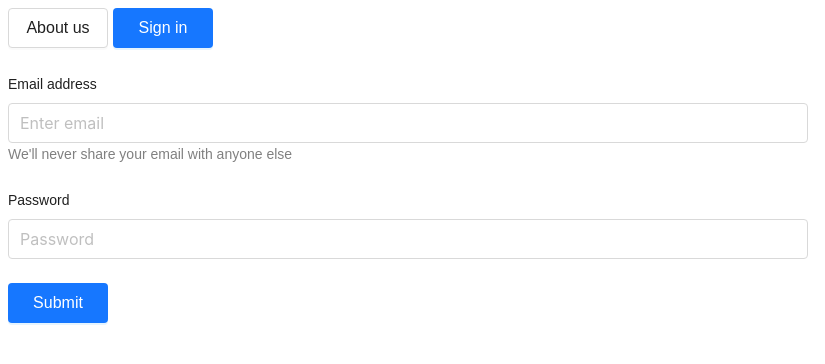
Test: checks incorrect login input fields
The image size is (825, 364).
Type "test@test.t" into the field labelled "Email address" at (408,123), box [8, 103, 808, 143]
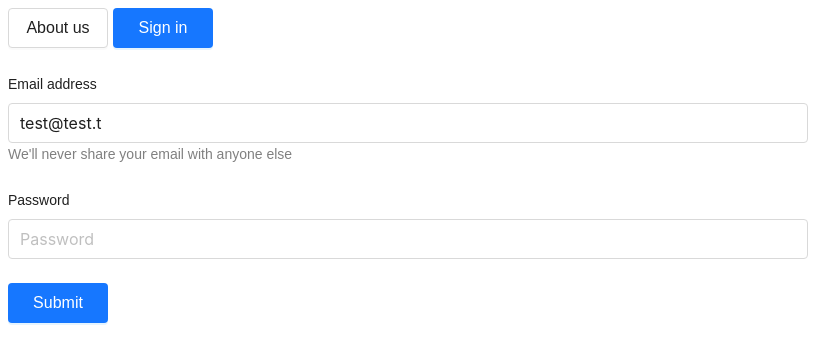
Click the button "Submit" at (58,303), box [8, 283, 108, 323]
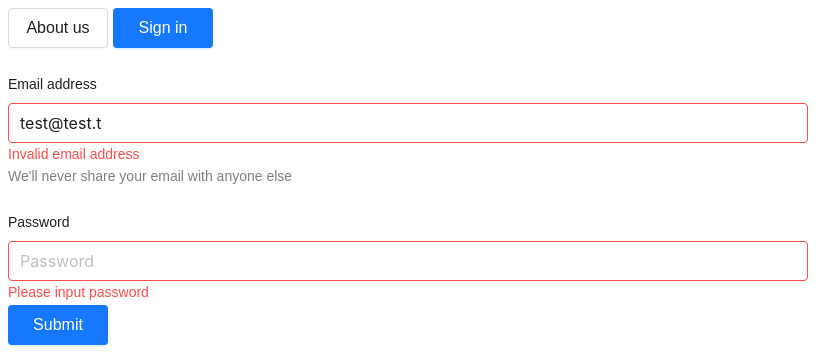
Check: the text "Invalid email address" is shown, box [8, 146, 140, 162]
Check: the text "Please input password" is shown, box [8, 284, 149, 300]
